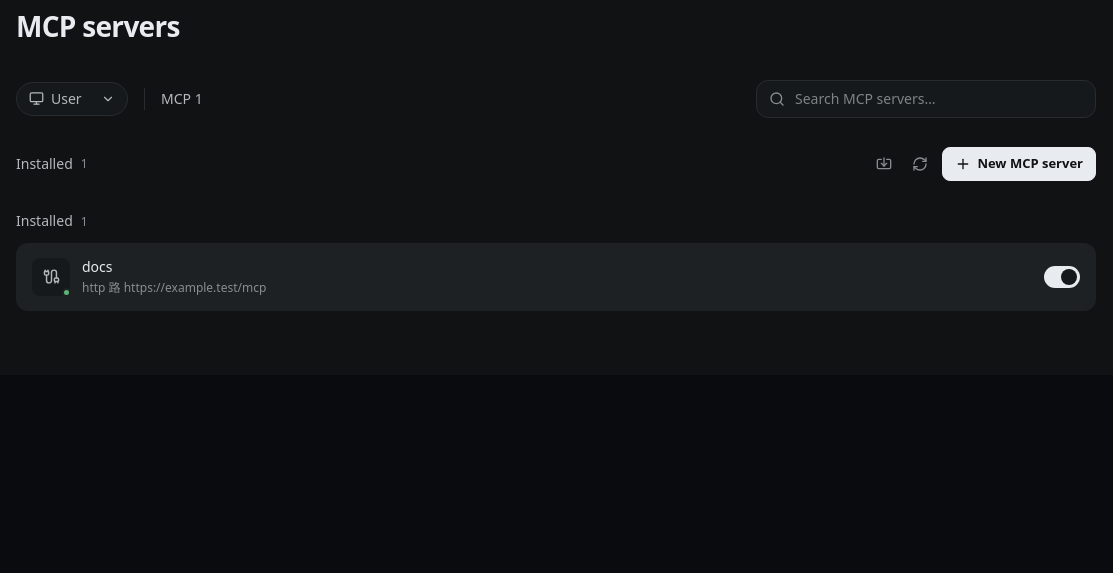
Test case: McpManager › imports servers from other hosts and flags configured names
The width and height of the screenshot is (1113, 573).
Click the button titled "Import from other tools" at (884, 164), box left=870, top=146, right=898, bottom=182
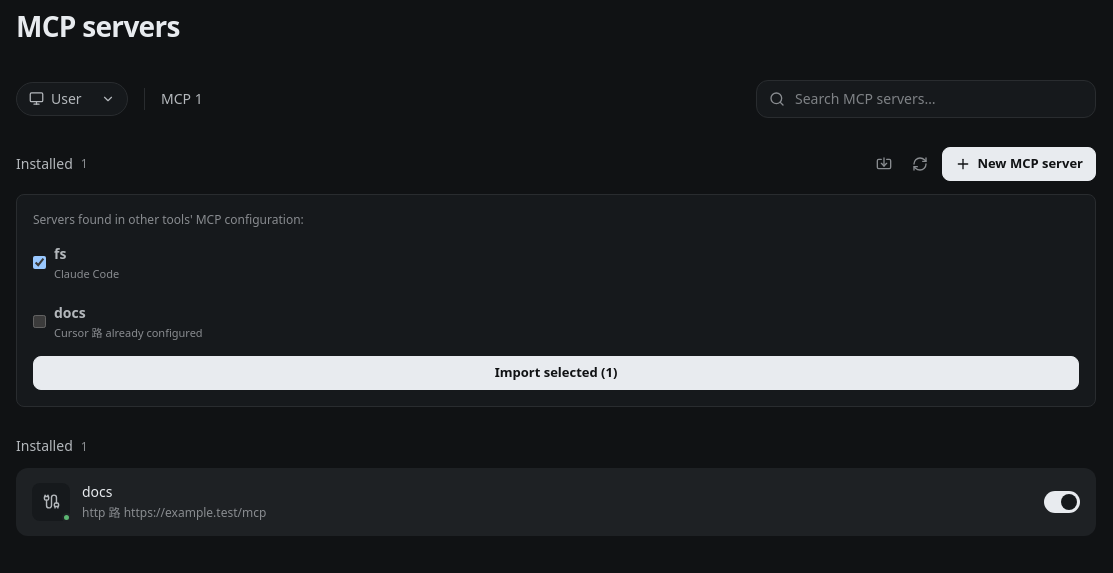
Check: the number of labels with class "mcp-import-row" is 2, box left=33, top=244, right=119, bottom=281; left=33, top=303, right=203, bottom=340
Check: the checkbox labelled "docs Cursor 路 already configured" is disabled, box left=33, top=315, right=46, bottom=328
Check: the label with class "mcp-import-row" shows "already configured", box left=54, top=325, right=203, bottom=340
Click the button "Import selected (1)" at (556, 373), box left=33, top=356, right=1079, bottom=390
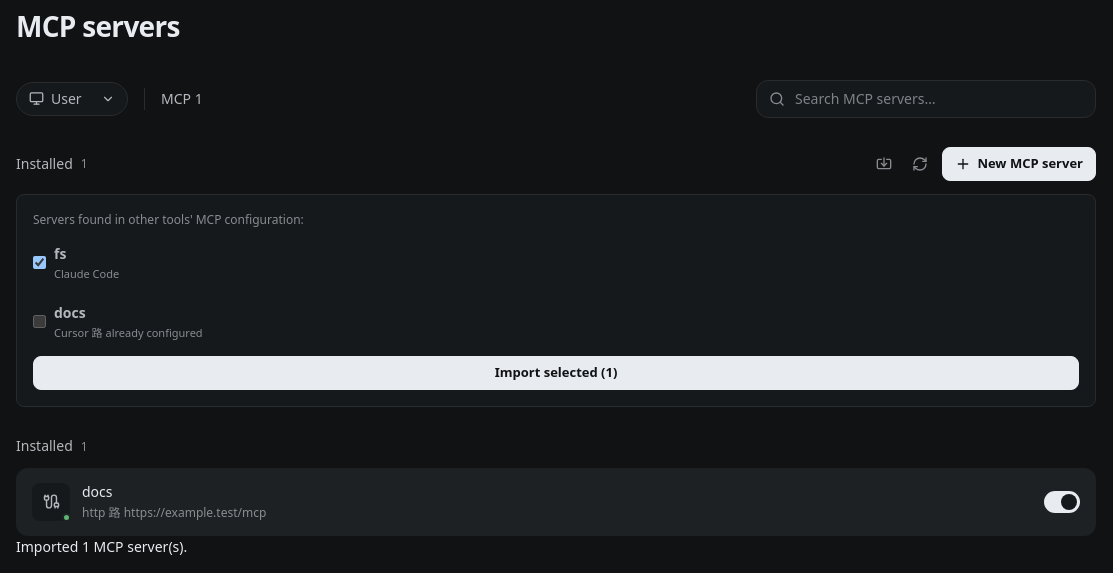
Check: the text "Imported 1 MCP server" is shown, box left=16, top=537, right=187, bottom=556
